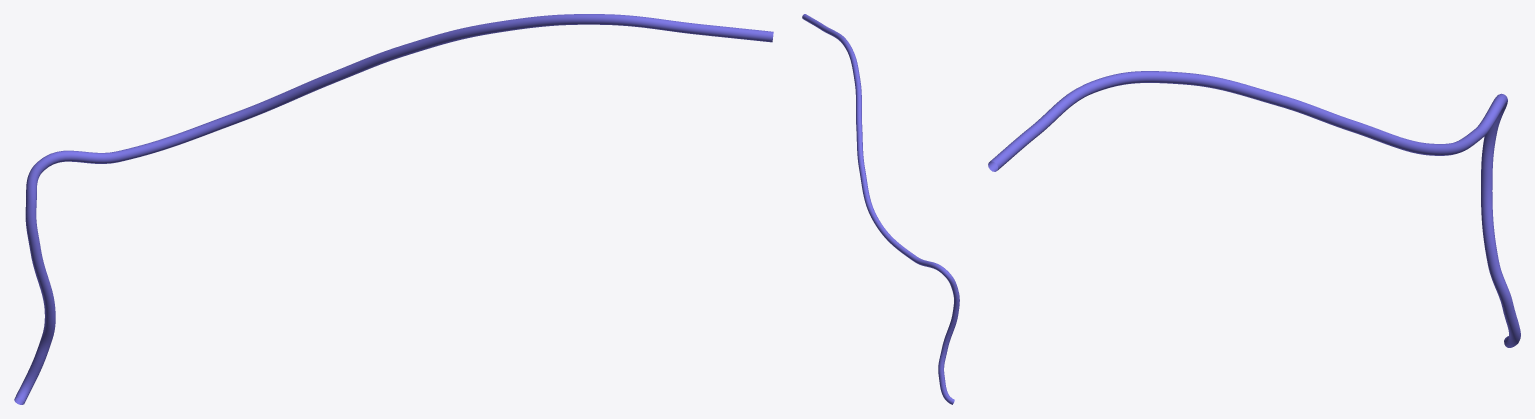
The model's file is Suprascapular_vein.r_BezierCurve.314.glb.
The picture shows the model from 3 angles, left to right: view 1: azimuth 30°, elevation 25°; view 2: azimuth 150°, elevation 25°; view 3: azimuth 270°, elevation 25°; orthographic projection. The views are drawn at different scales.
Parts seen in each view (by area): view 1: Suprascapular_vein.r_BezierCurve.314; view 2: Suprascapular_vein.r_BezierCurve.314; view 3: Suprascapular_vein.r_BezierCurve.314.
Boxes of the visible parts, x1=… form: Suprascapular_vein.r_BezierCurve.314: x1=14, y1=14, x2=773, y2=404; Suprascapular_vein.r_BezierCurve.314: x1=802, y1=14, x2=959, y2=404; Suprascapular_vein.r_BezierCurve.314: x1=988, y1=71, x2=1520, y2=347.
Bounding box in the file's own units: 0.0758 × 0.0609 × 0.0623.
